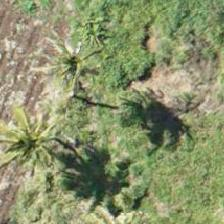coconut_tree: (26, 17, 116, 107), (0, 111, 66, 201)
